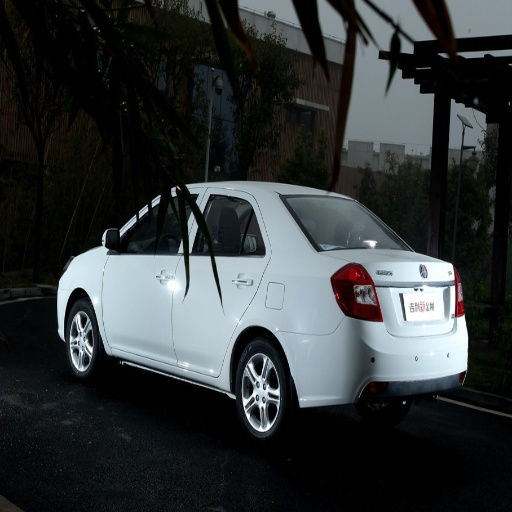back_bumper: (285, 312, 469, 408)
back_glass: (279, 192, 408, 249)
back_left_door: (160, 195, 271, 372)
